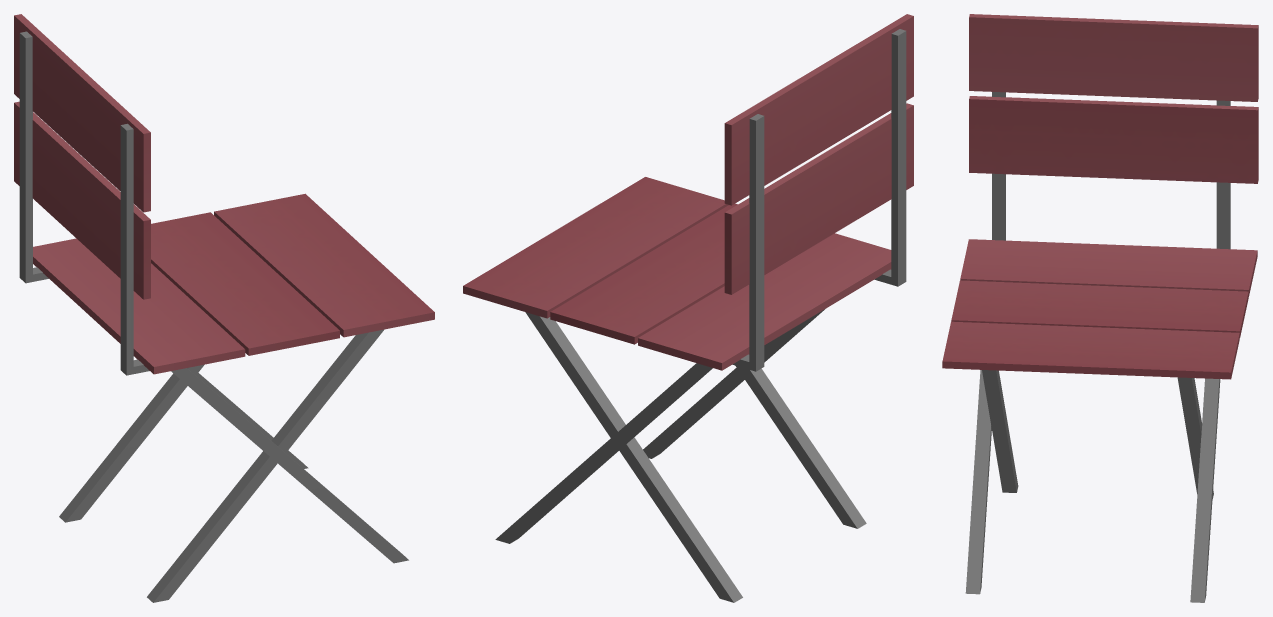
Rendered from Chair.fbx.
3 views of the same model, side by side, from view 1: azimuth 30°, elevation 25°; view 2: azimuth 150°, elevation 25°; view 3: azimuth 270°, elevation 25° (orthographic). The views are drawn at different scales.
Parts seen in each view (by area): view 1: SM_Chair_01__1_; view 2: SM_Chair_01__1_; view 3: SM_Chair_01__1_.
Part boxes in pixels (x1=…): SM_Chair_01__1_: x1=14, y1=14, x2=434, y2=602; SM_Chair_01__1_: x1=463, y1=14, x2=913, y2=602; SM_Chair_01__1_: x1=942, y1=14, x2=1258, y2=602.
Bounding box in the file's own units: 956 × 1460 × 911.
